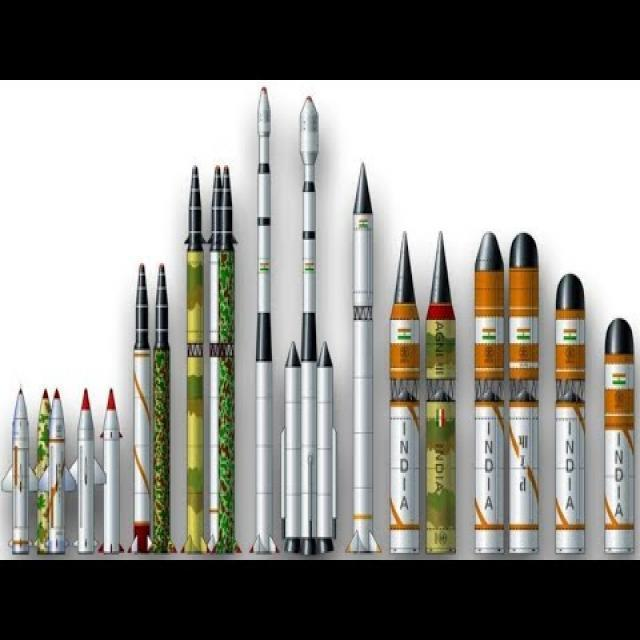Missile: (345, 149, 382, 556), (504, 212, 544, 560), (381, 215, 418, 560), (424, 212, 461, 554), (552, 270, 594, 555), (471, 217, 504, 560), (251, 84, 274, 557), (600, 293, 636, 570), (600, 309, 634, 547), (294, 90, 322, 348), (280, 336, 308, 554), (316, 340, 342, 550), (97, 386, 127, 554)
